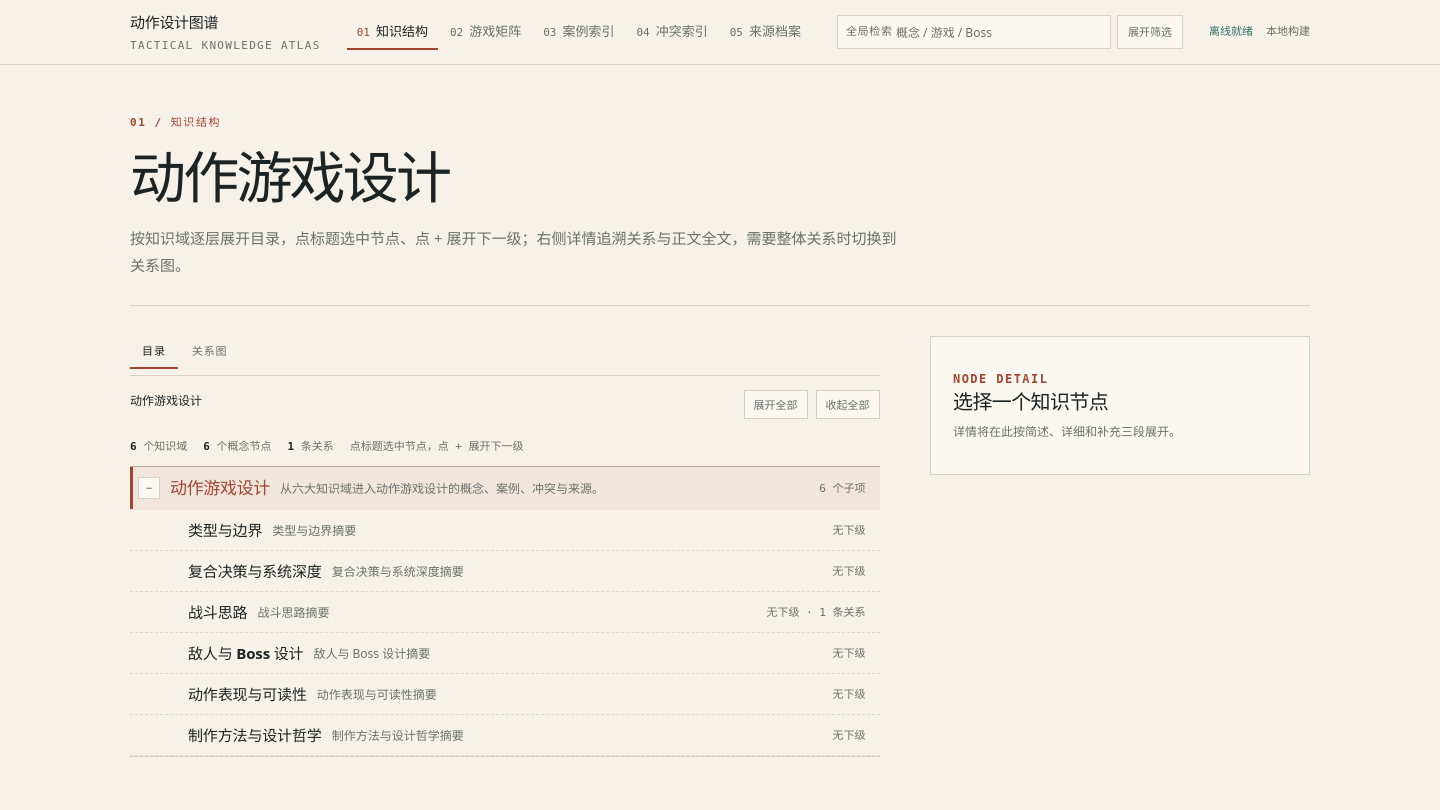
Test: research search › shows real results and propagates a game hit to its graph domain
Type "猎天使魔女" into the search field at (974, 32), box [837,15,1111,49]
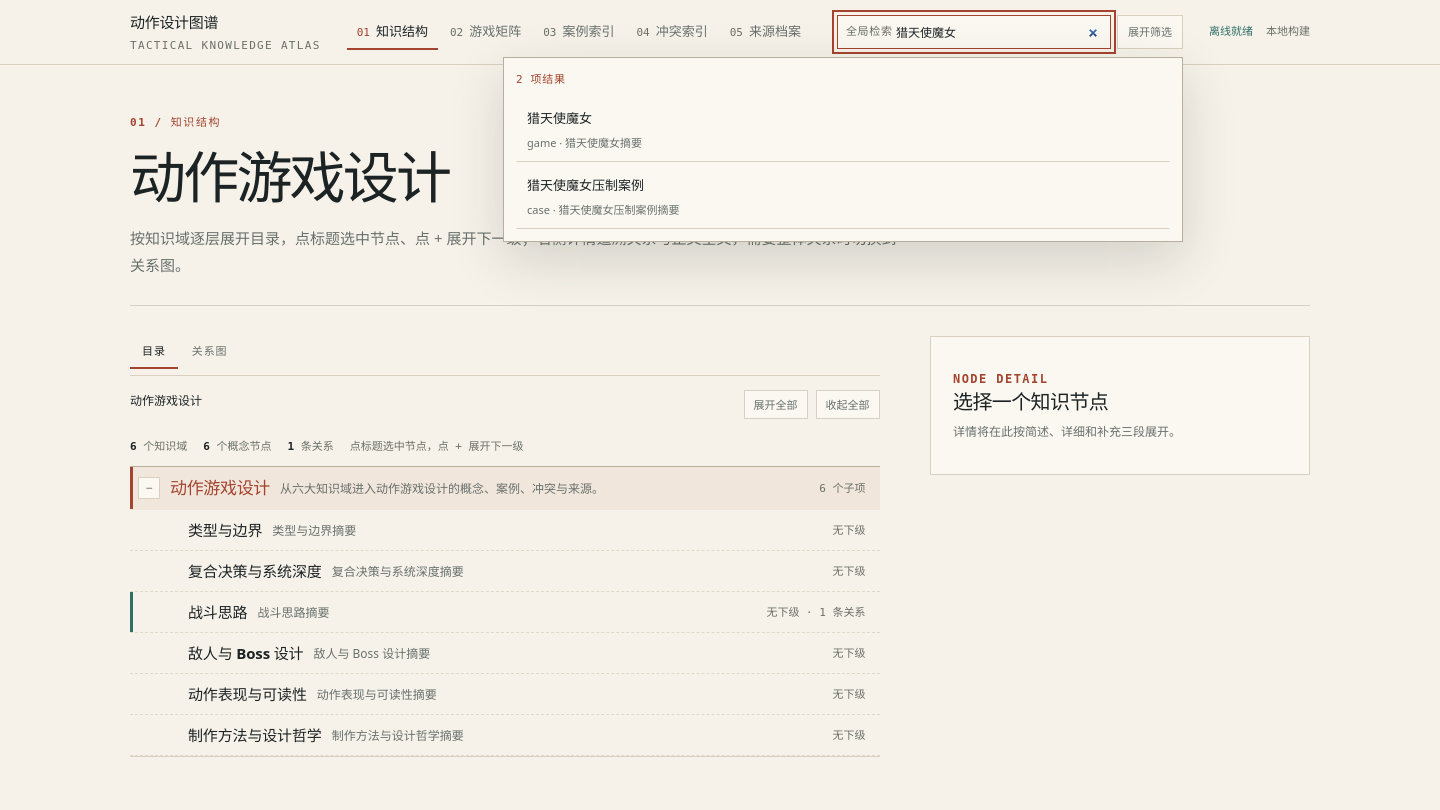
Check: the button "猎天使魔女压制案例" is shown, box [516,164,1170,229]
